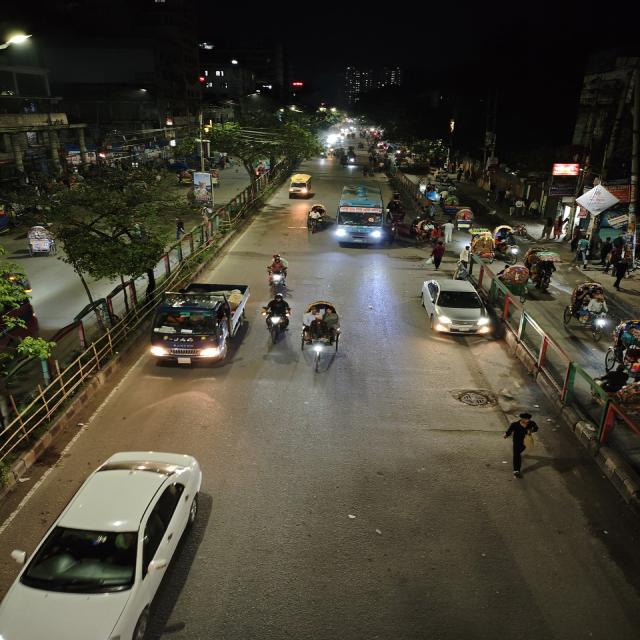bus: (332, 183, 391, 249)
car: (1, 447, 224, 639), (413, 277, 495, 341)
human_hauler: (285, 171, 317, 200)
motorcycle: (260, 292, 293, 342), (263, 252, 293, 293)
pedestrian: (498, 411, 545, 480), (570, 232, 592, 268), (610, 256, 632, 290), (426, 240, 449, 271), (598, 239, 614, 271), (570, 248, 590, 272)
pickup_van: (148, 280, 253, 367)
rickshaw: (300, 298, 348, 374), (561, 283, 613, 340), (610, 317, 640, 379), (20, 224, 61, 258), (495, 263, 537, 295), (466, 232, 499, 264), (443, 194, 469, 228), (524, 246, 563, 268), (305, 203, 327, 233), (452, 206, 477, 232), (386, 199, 408, 227), (419, 183, 442, 205)
